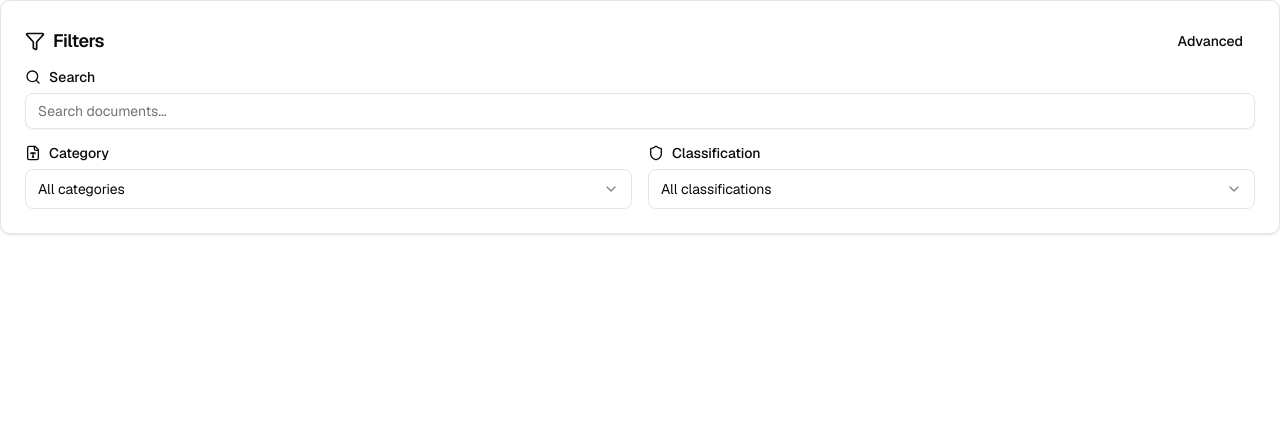
Test: DocumentFilters › shows advanced filters when toggled
This screenshot has width=1280, height=423.
Click the button "Advanced" at x=1210, y=41, box [1166,25,1255,57]
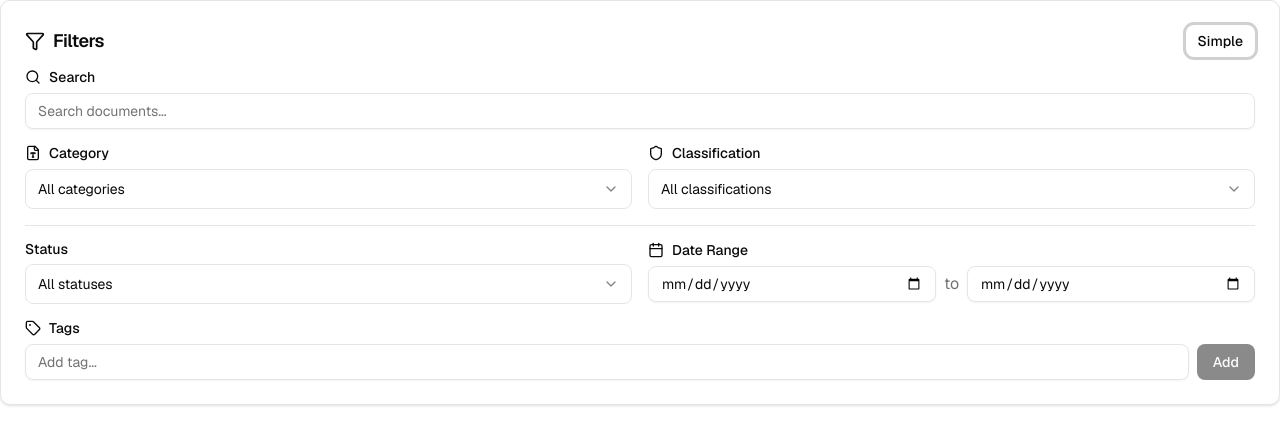
Expected: the text "Status" is shown, [25,240,68,258]
Expected: the text "Date Range" is shown, [648,241,748,259]
Expected: the text "Tags" is shown, [25,319,80,337]
